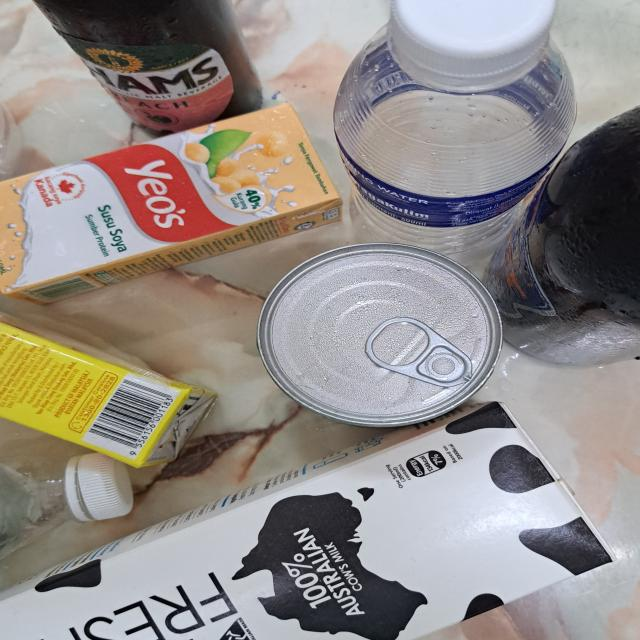can: (257, 248, 504, 428)
drink carton: (0, 403, 612, 640), (0, 105, 343, 298), (0, 305, 217, 474)
glass bottle: (489, 94, 638, 373), (30, 0, 268, 134)
plastic bottle: (335, 30, 578, 264)
plastic bottle cap: (381, 0, 558, 88), (66, 450, 132, 522)
pop tab: (366, 312, 475, 391)
